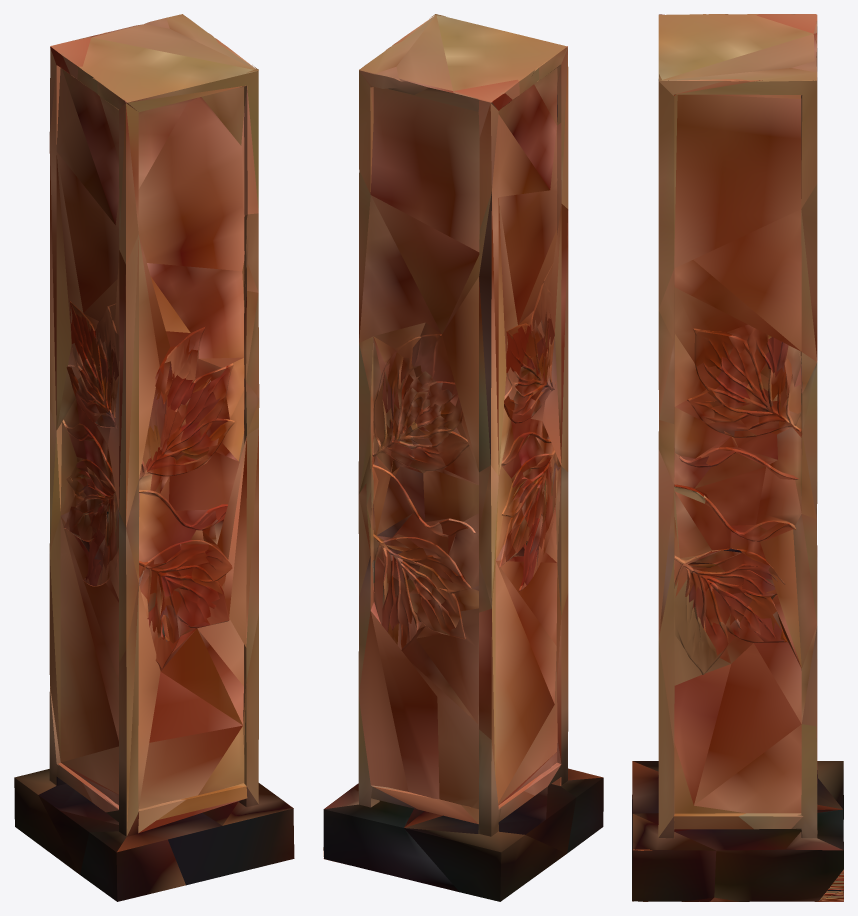
The model's file is terracoTotem.glb.
3 views of the same model, side by side, from view 1: azimuth 30°, elevation 25°; view 2: azimuth 150°, elevation 25°; view 3: azimuth 270°, elevation 25° (orthographic). The views are drawn at different scales.
Size of the model in its own units: 0.4516 by 1.9 by 0.4512.
Materials: 1 (1 with a texture image).
